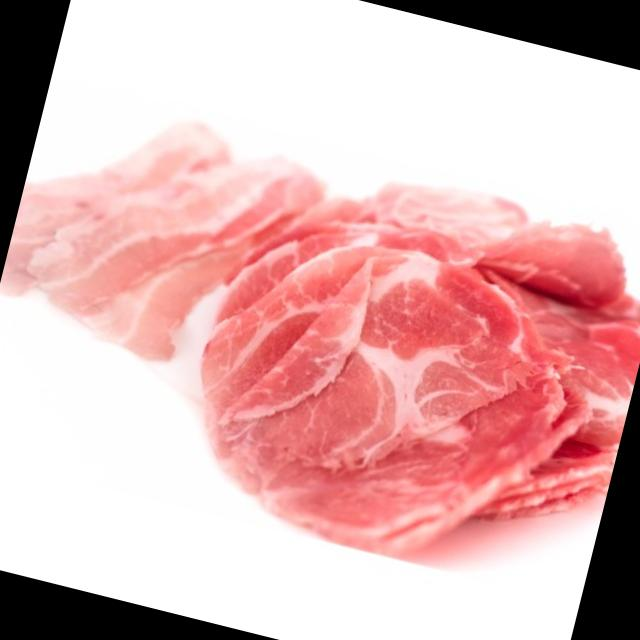pork: (0, 48, 640, 585)
